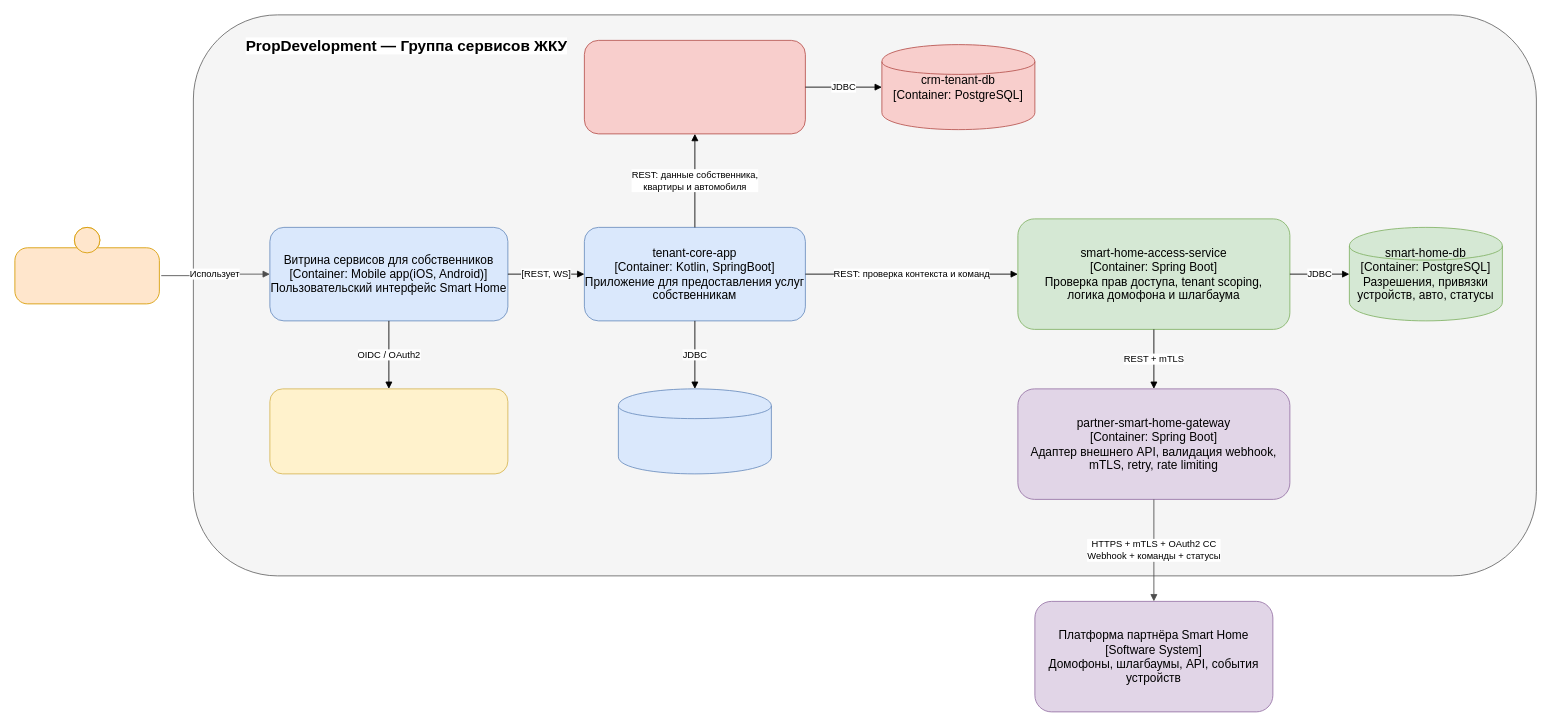
This 1551x727 diagram has some shape labels left out. Each missing label, with the box of its shape:
auth-service-1 [Container: Keycloak] Сервис аутентификации покупателей: (269, 388, 508, 474)
CRM [Container: Kotlin, Spring Boot] Система управления данными собственников: (584, 40, 805, 134)
tenant-core-db [Container: PostgreSQL]: (618, 388, 771, 474)
Собственник [Person]: (14, 227, 159, 304)
